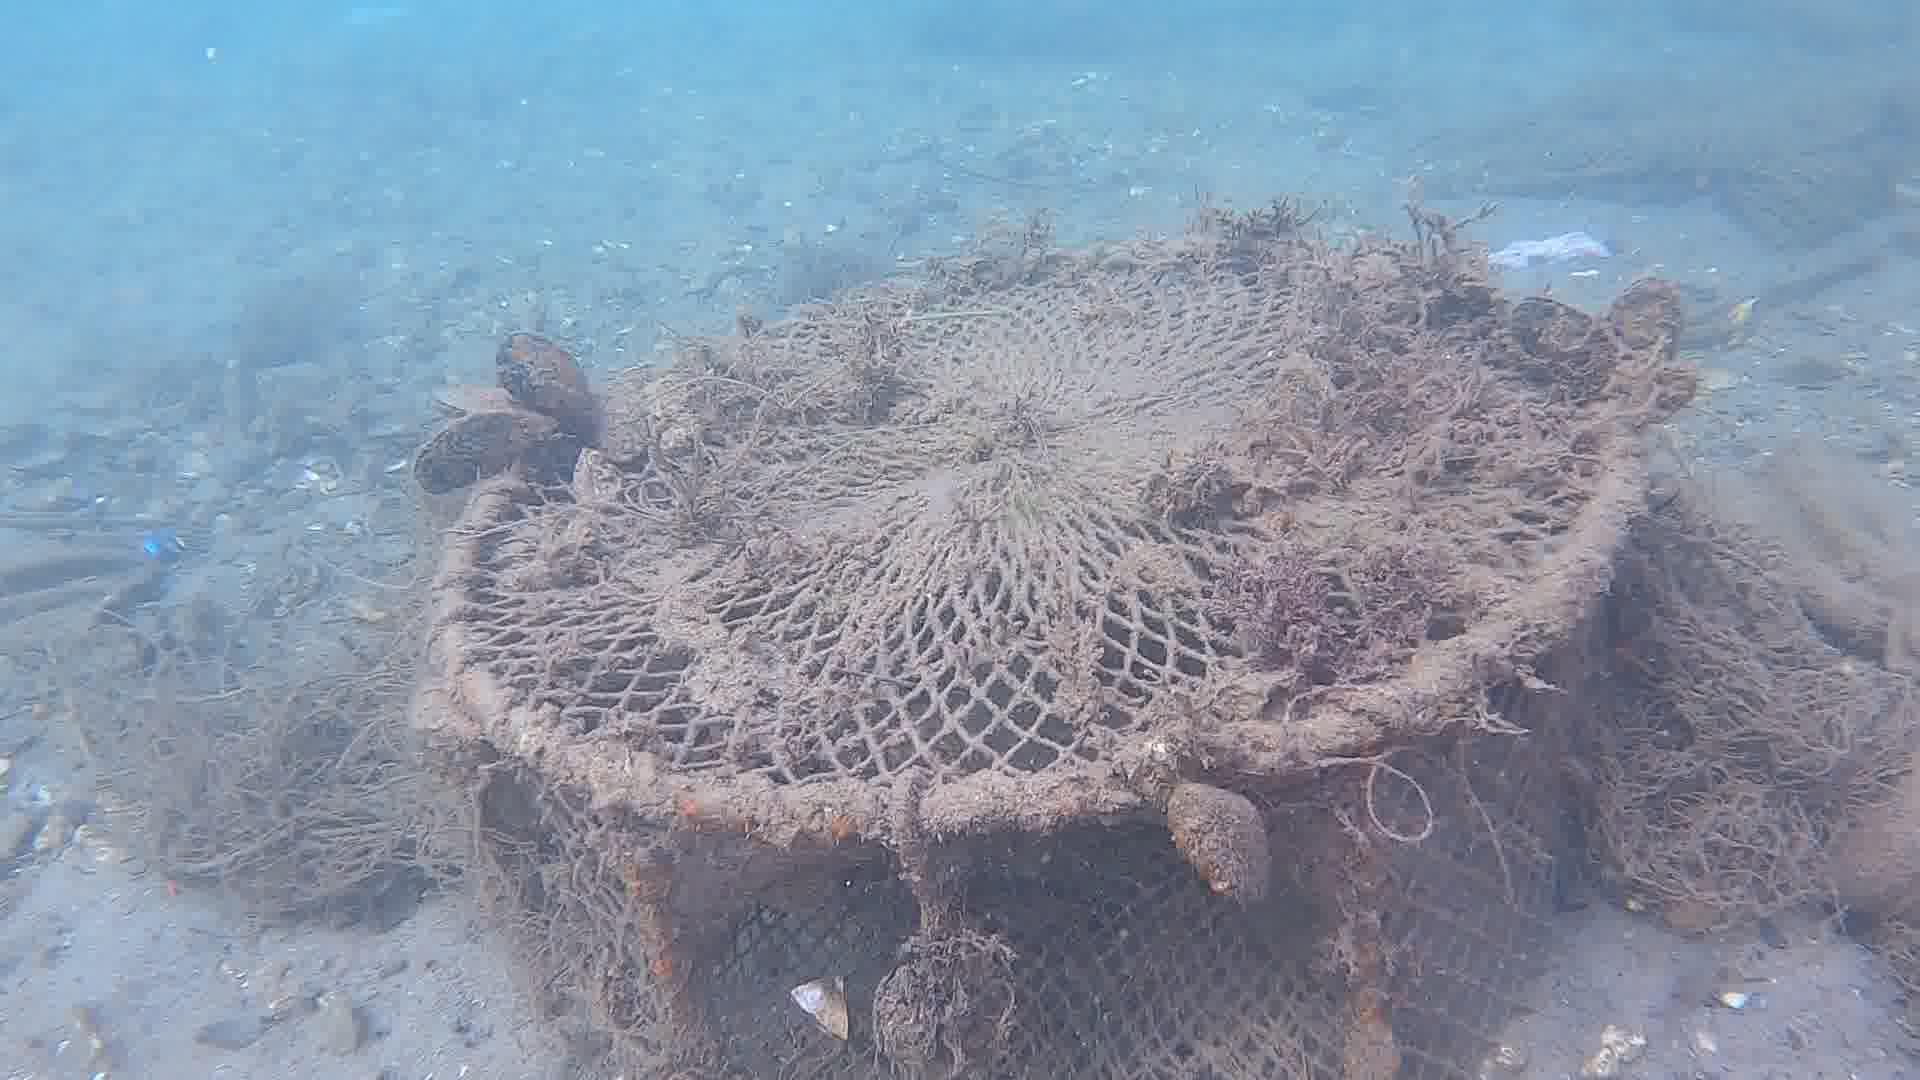circular fish trap: (422, 227, 1664, 1080)
